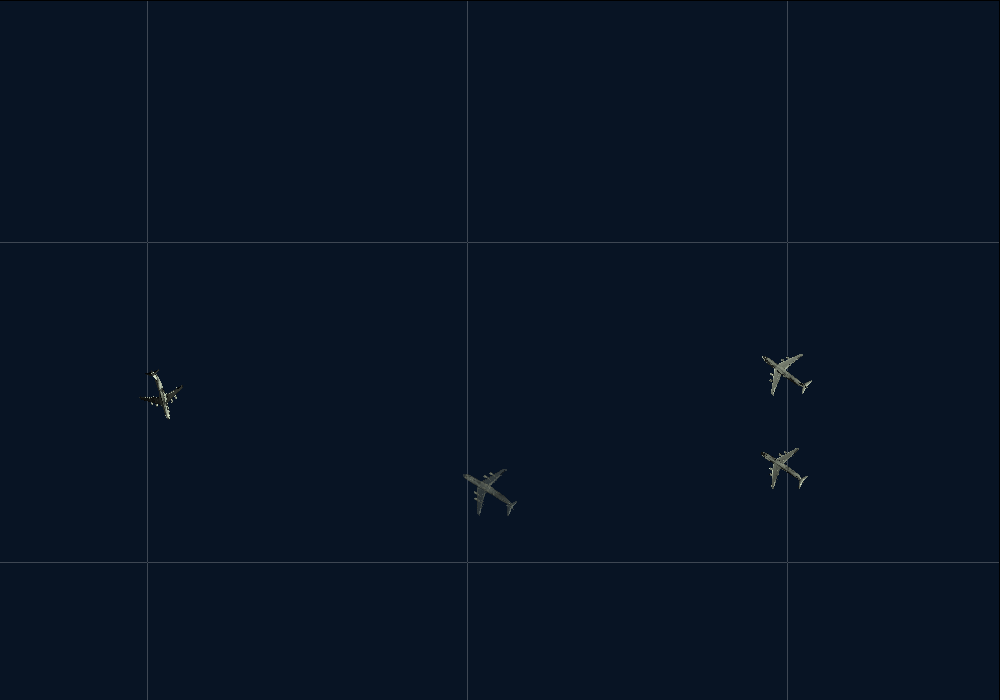plane: (446, 450, 530, 533), (746, 333, 824, 410), (746, 431, 819, 503), (129, 362, 191, 426)
